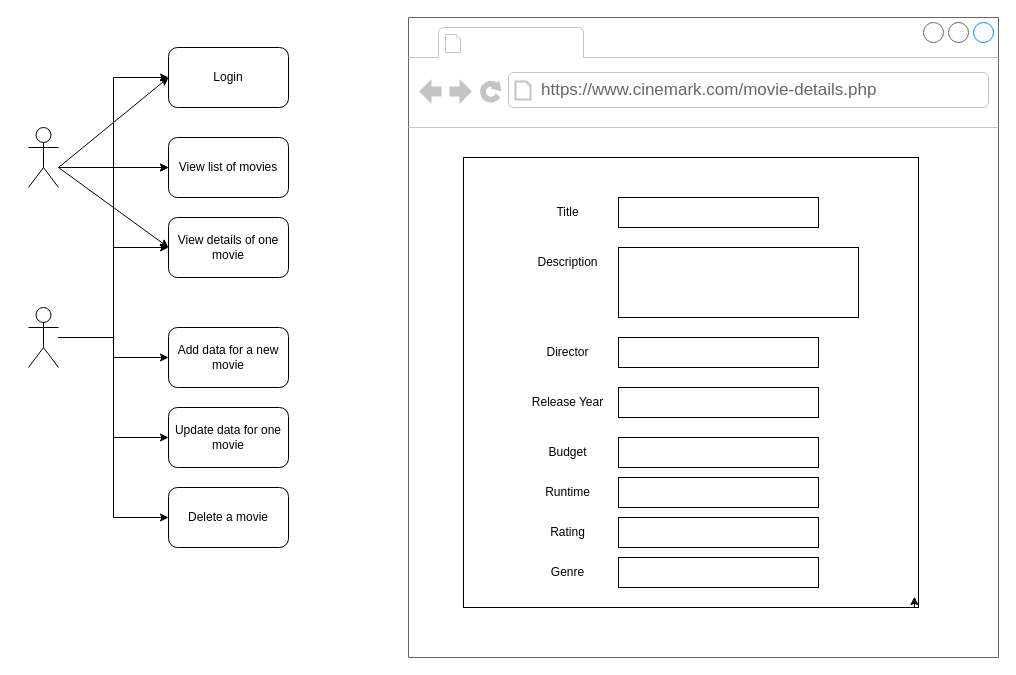
This 1016x675 diagram has some shape labels left out. The centre of each missing label's shape, as x and y in pixels:
"Admin" belongs at (43,337).
"Customer" belongs at (43,157).
"Page 1" belongs at (523,42).
